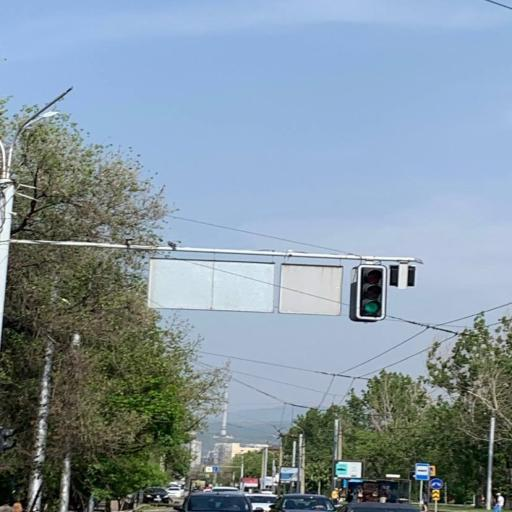book: (344, 479, 410, 503)
phone: (28, 342, 53, 511), (299, 434, 305, 493)
table: (350, 265, 387, 322)
